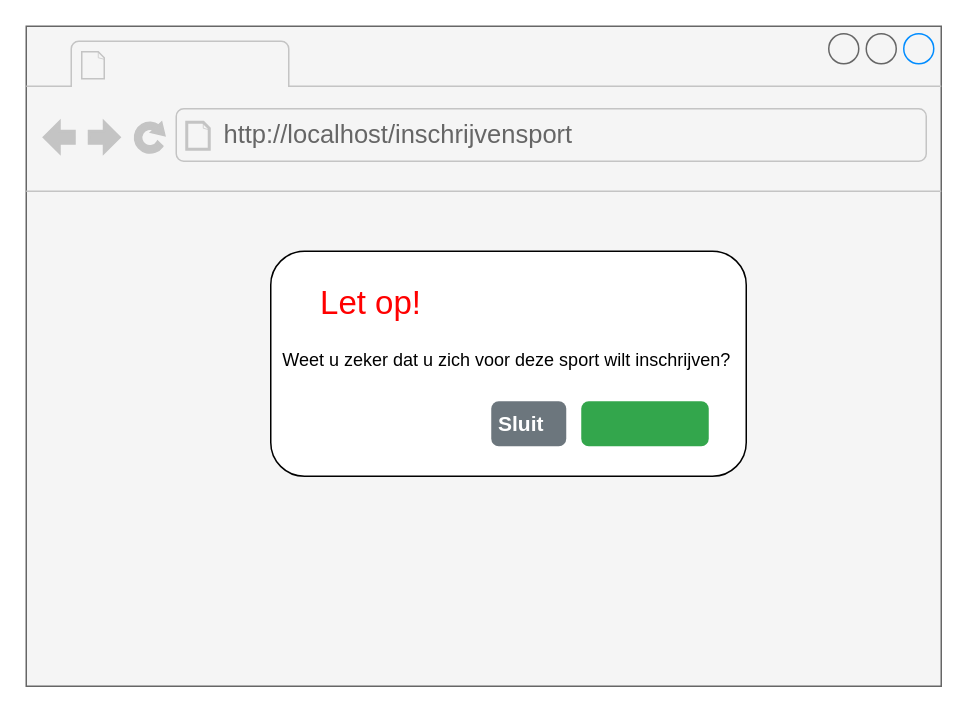
The diagram is 968 pixels wide and 713 high, and some of its shapes have lost their labels. The centre of each missing label's shape, as x and y in pixels:
Page 1: the point at 198,63
Schrijf in: the point at 644,423
